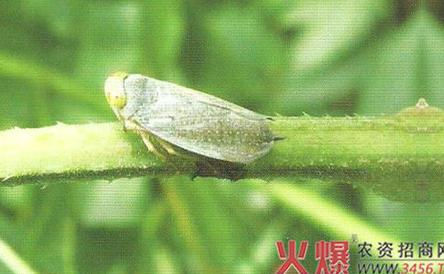pest: (104, 68, 280, 161)
